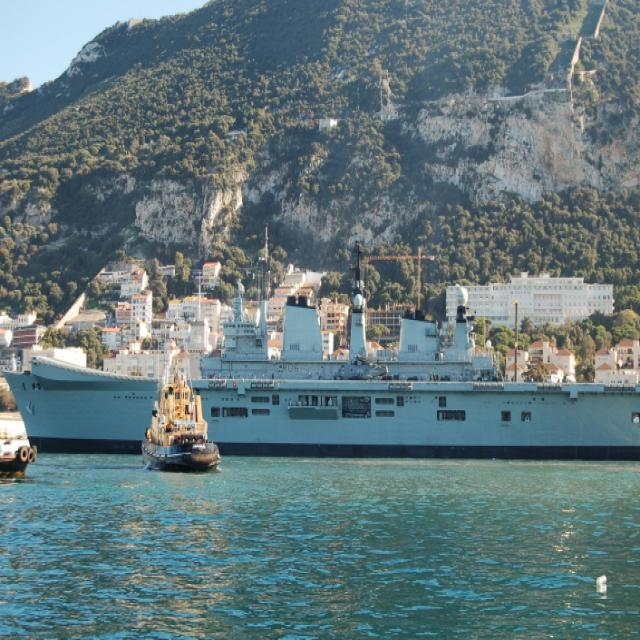Portanaves: (3, 232, 640, 461)
